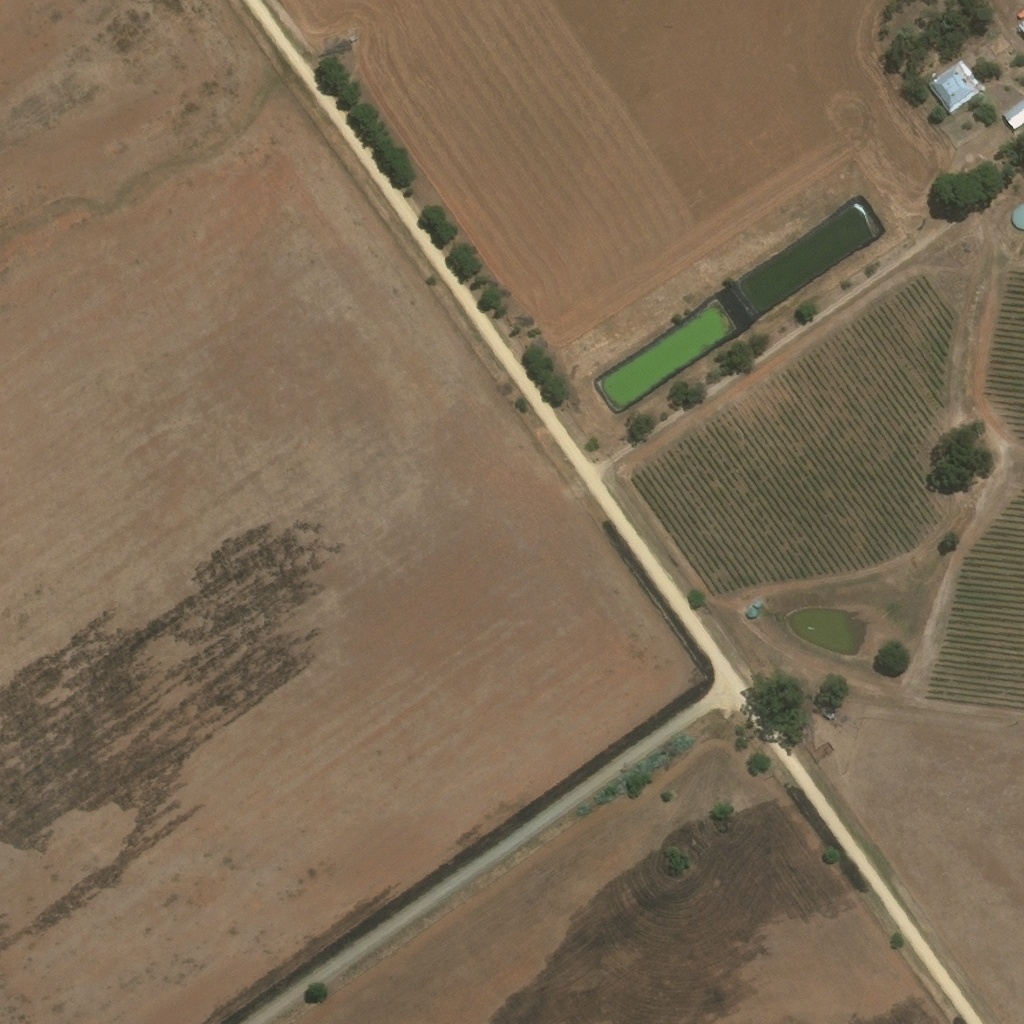0 no-damage: (927, 59, 984, 115), (1000, 98, 1023, 132), (1009, 207, 1023, 233), (746, 600, 764, 619)
4 un-classified: (817, 705, 839, 726), (1016, 10, 1023, 21)
